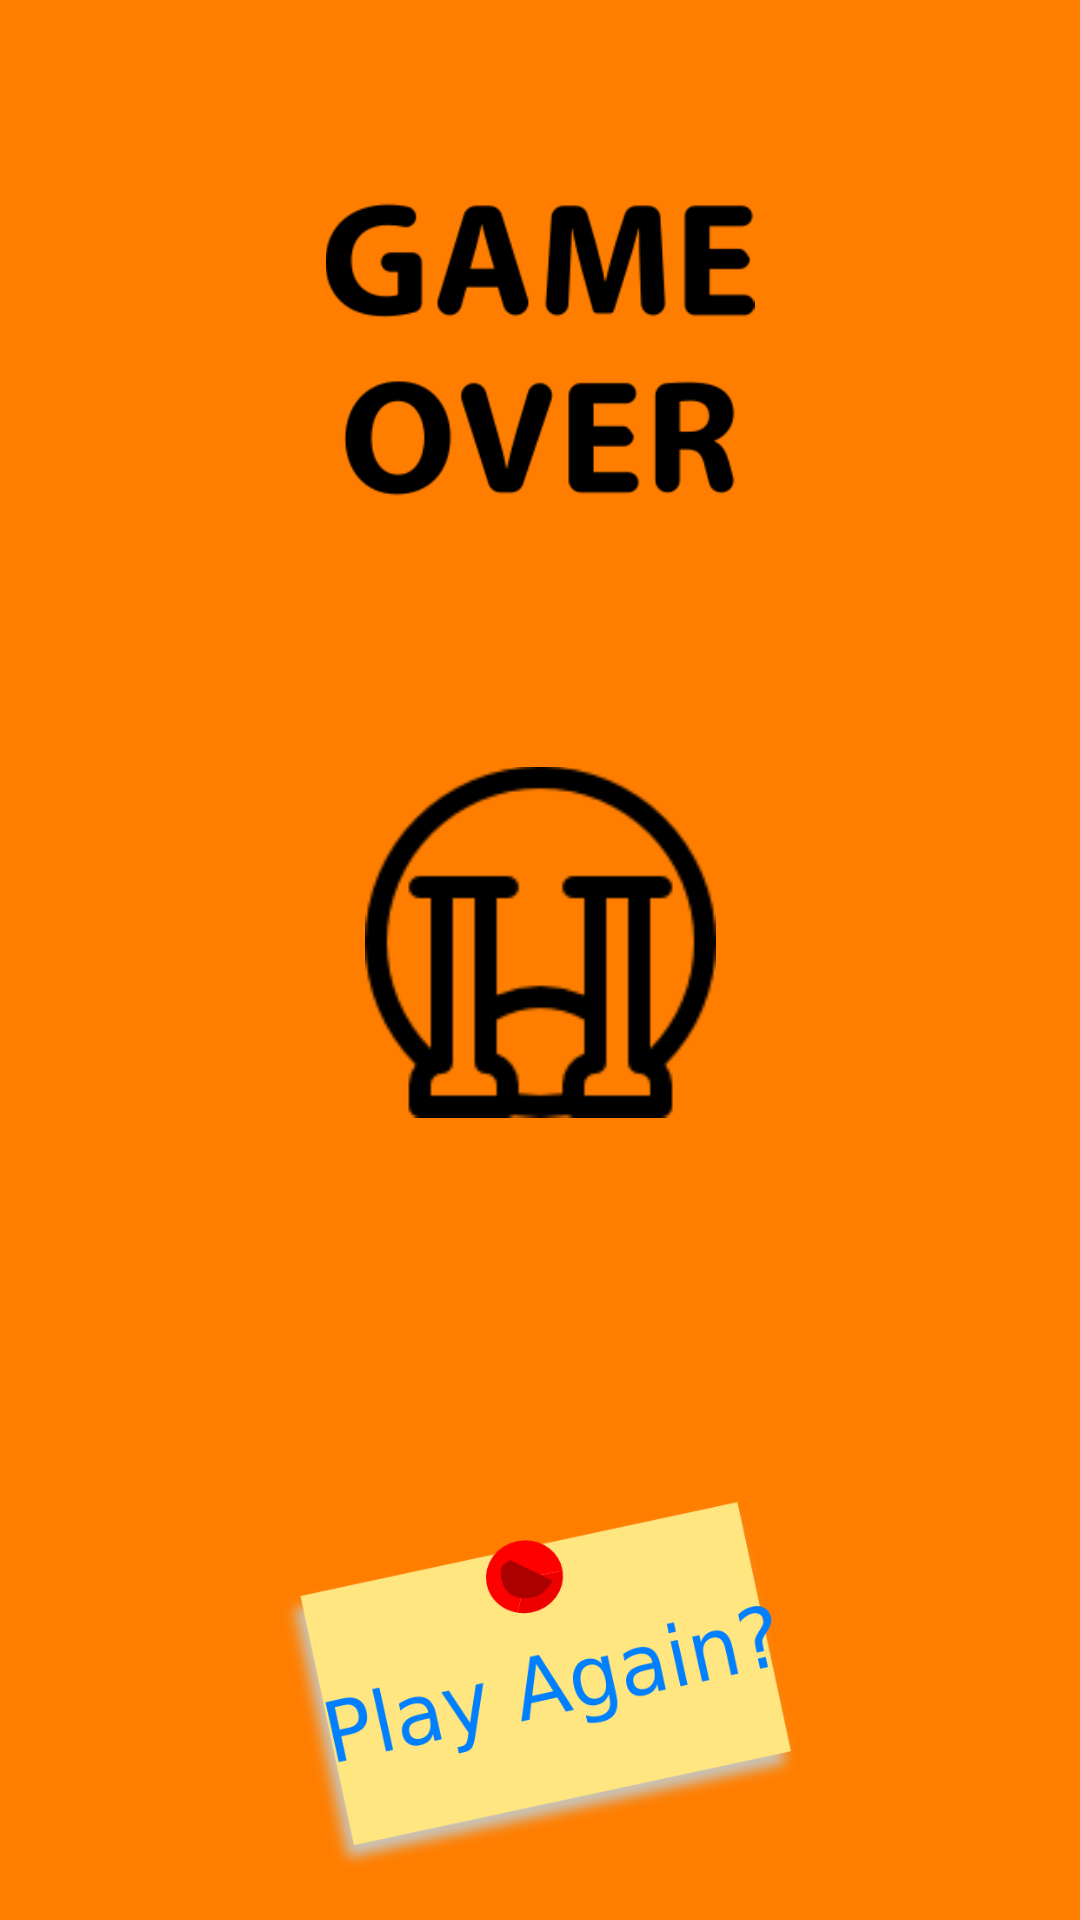

Named icons in this screenshot (1080 x 1920) and their bounding boxes, (x1, y1, x2, y2):
crying: (365, 767, 716, 1118)
